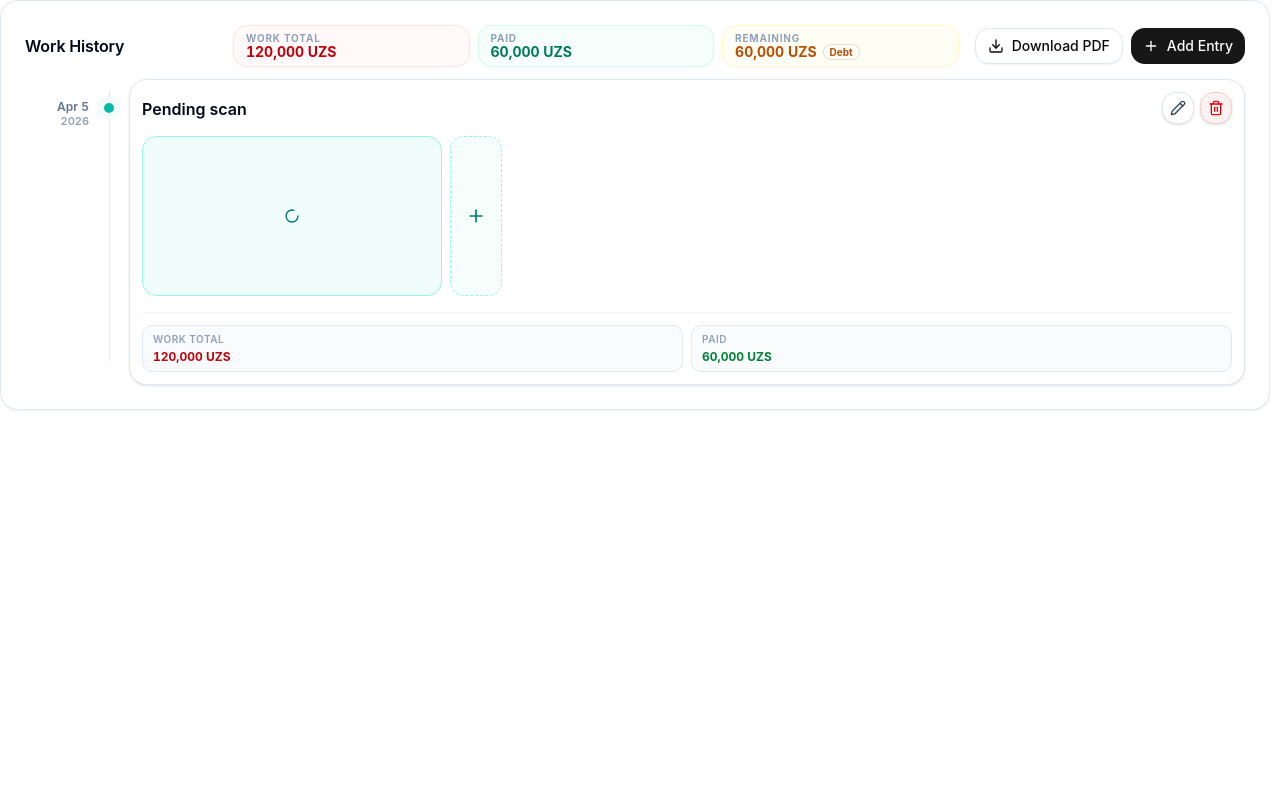
TreatmentHistoryCard image controls › keeps pending scanned images in processing state without loading full media
Expected: the heading "Pending scan" is shown, x1=142 y1=99 x2=247 y2=119
Expected: the element titled "Images processing" is shown, x1=142 y1=136 x2=442 y2=296
Click the button named "Edit Entry" at [1178, 108], box x1=1162 y1=92 x2=1194 y2=124
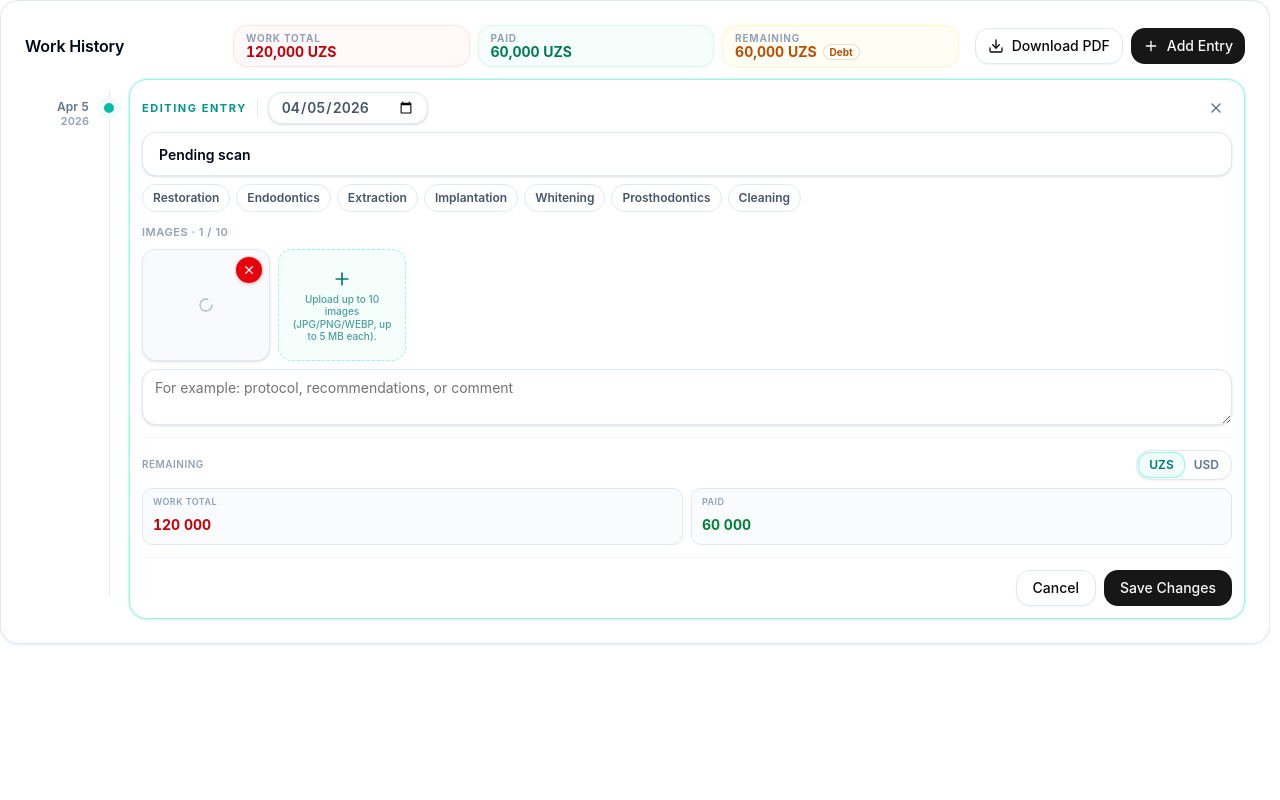
Result: the button named "Image 1" is disabled at x1=143 y1=250 x2=269 y2=360
